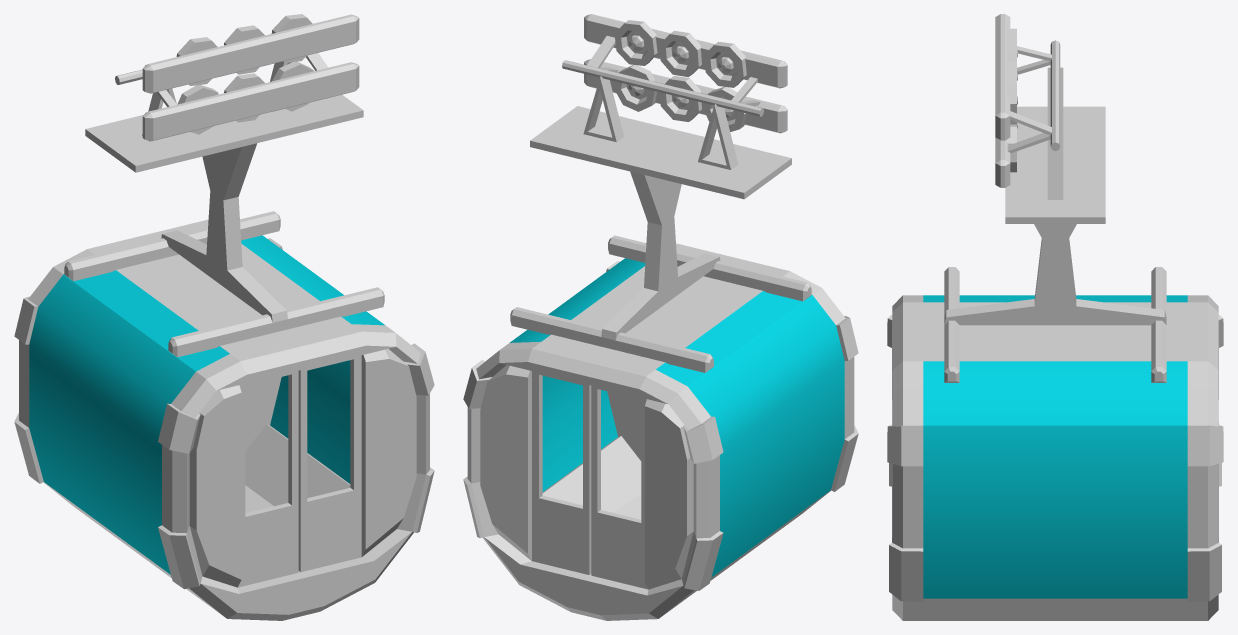
Rendered from Funicular.fbx.
3 renders of one model, left to right at view 1: azimuth 30°, elevation 25°; view 2: azimuth 150°, elevation 25°; view 3: azimuth 270°, elevation 25°, orthographic. The views are drawn at different scales.
Parts seen in each view (by area): view 1: base.001, window_R.001, grab_base.001, grab_top.001, window_L.001, door_l.001, door_r.001; view 2: base.001, window_R.001, grab_base.001, grab_top.001, window_L.001, door_l.002, door_r.002, wheel_3.001, wheel_1.001, wheel_2.001, wheel_5.001, wheel_4.001 (+1 smaller); view 3: window_L.001, base.001, grab_base.001, grab_top.001, window_R.001.
Part boxes in pixels (x1,y1,x2,y2): base.001: (14, 219, 434, 620); window_R.001: (29, 270, 229, 574); grab_base.001: (64, 61, 384, 357); grab_top.001: (115, 14, 359, 141); window_L.001: (241, 235, 384, 483); door_l.001: (298, 355, 361, 571); door_r.001: (238, 370, 298, 587); base.001: (463, 243, 858, 620); window_R.001: (656, 291, 844, 577); grab_base.001: (510, 76, 811, 372); grab_top.001: (562, 14, 787, 133); window_L.001: (510, 258, 645, 491); door_l.002: (532, 371, 591, 574); door_r.002: (591, 385, 648, 589); wheel_3.001: (704, 41, 746, 87); wheel_1.001: (614, 20, 657, 65); wheel_2.001: (659, 30, 701, 77); wheel_5.001: (659, 76, 701, 121); wheel_4.001: (614, 65, 656, 111); window_L.001: (923, 361, 1187, 598); base.001: (887, 295, 1223, 620); grab_base.001: (944, 67, 1166, 382); grab_top.001: (995, 14, 1060, 187); window_R.001: (923, 295, 1187, 302).
Bounding box in the file's own units: 206 × 406 × 227.
